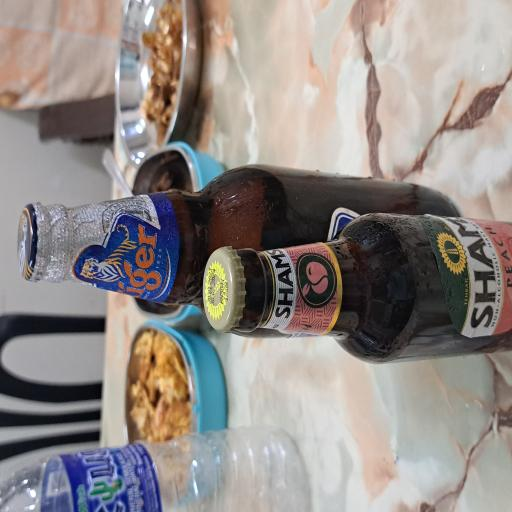glass bottle: (156, 23, 258, 512), (112, 267, 222, 512)
plastic bottle: (0, 0, 65, 414)
